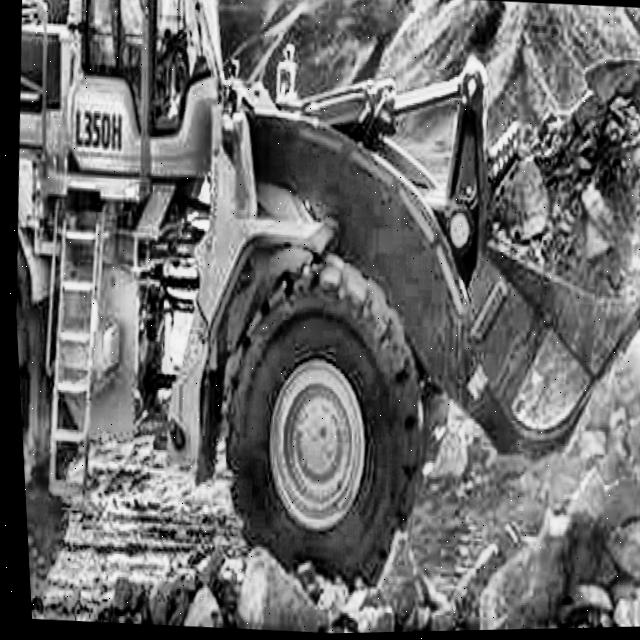buldozerpayloadergrader: (0, 0, 496, 625)
